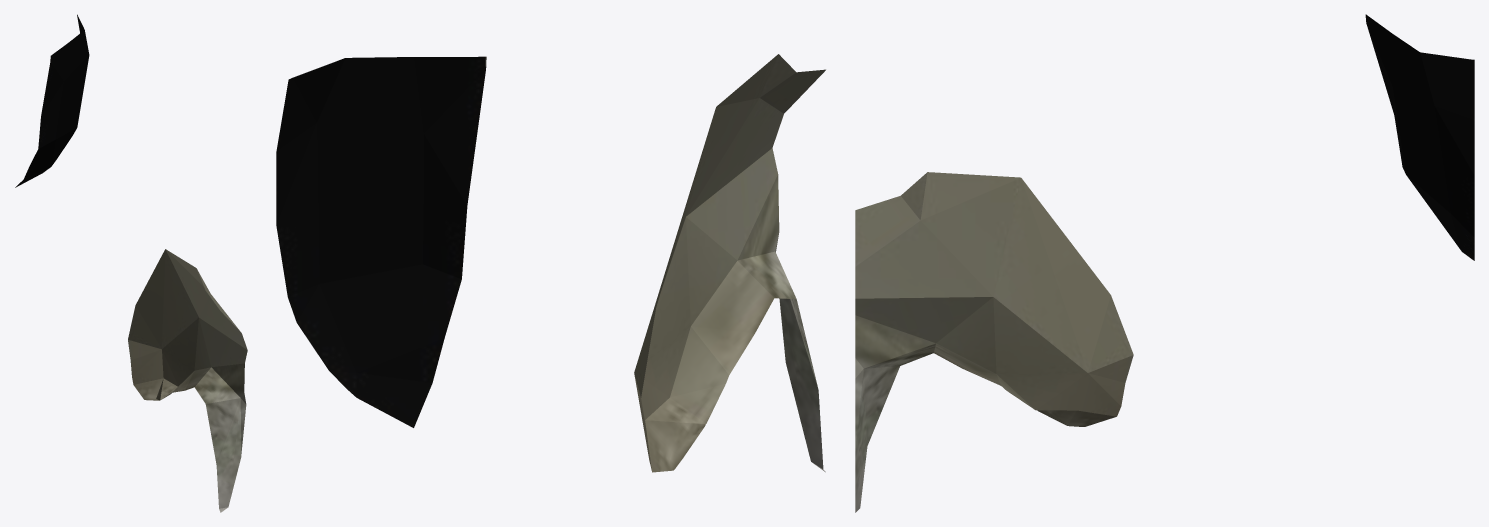
3 views of the same model, side by side, from view 1: azimuth 30°, elevation 25°; view 2: azimuth 150°, elevation 25°; view 3: azimuth 270°, elevation 25° (orthographic). The views are drawn at different scales.
Bounding box in the file's own units: 1.13 × 5.24 × 5.9.
Materials: 1 (1 with a texture image).
